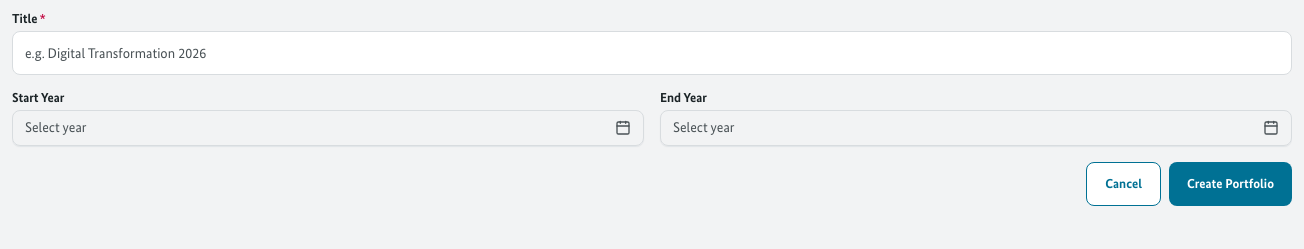
CreatePortfolioForm — validation › shows required error when name is empty on submit
The width and height of the screenshot is (1304, 249).
What coordinates should you click on to do the following:
click the button "Create Portfolio"
I would click on:
 (1230, 184)
Its box is [1169, 162, 1292, 206].
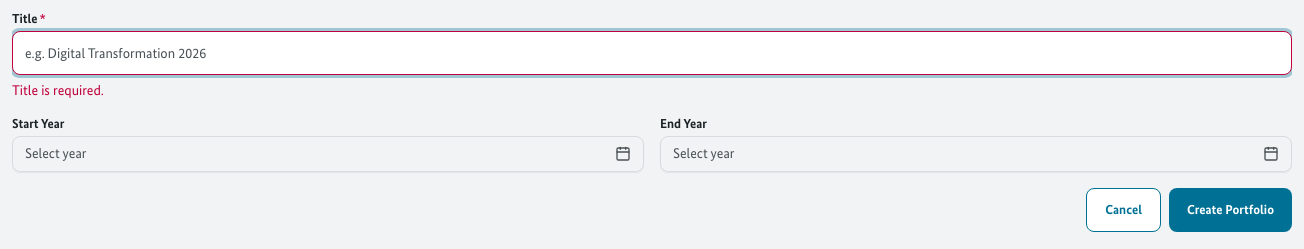
Expected: the message shows "Title is required", [12, 82, 104, 99]
